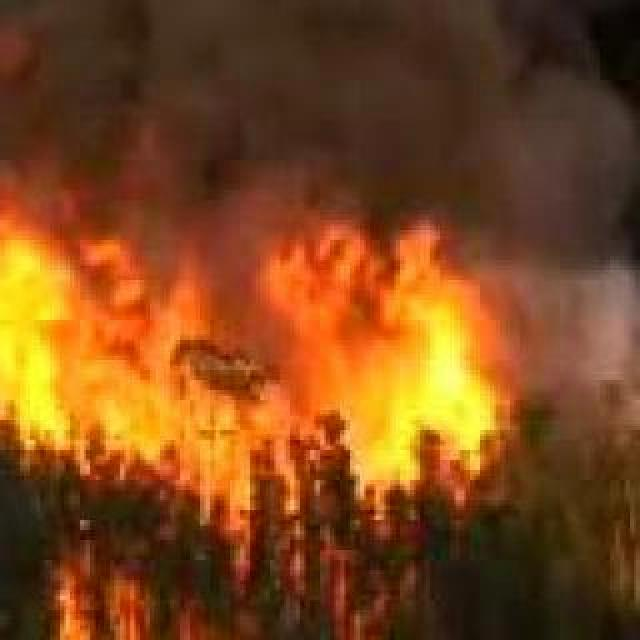fire: (0, 162, 510, 640)
